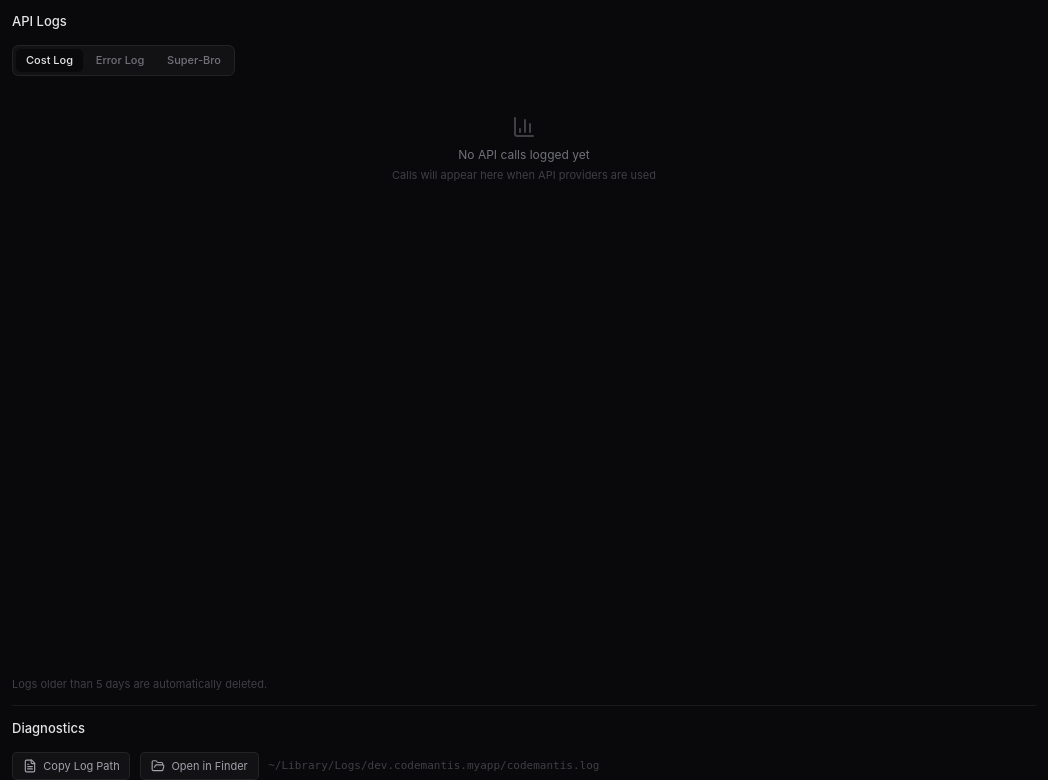
Test: ApiLogsTab › shows Super-Bro log entries when present
Click the button "Super-Bro" at x=194, y=60, box 157,49 -> 231,72
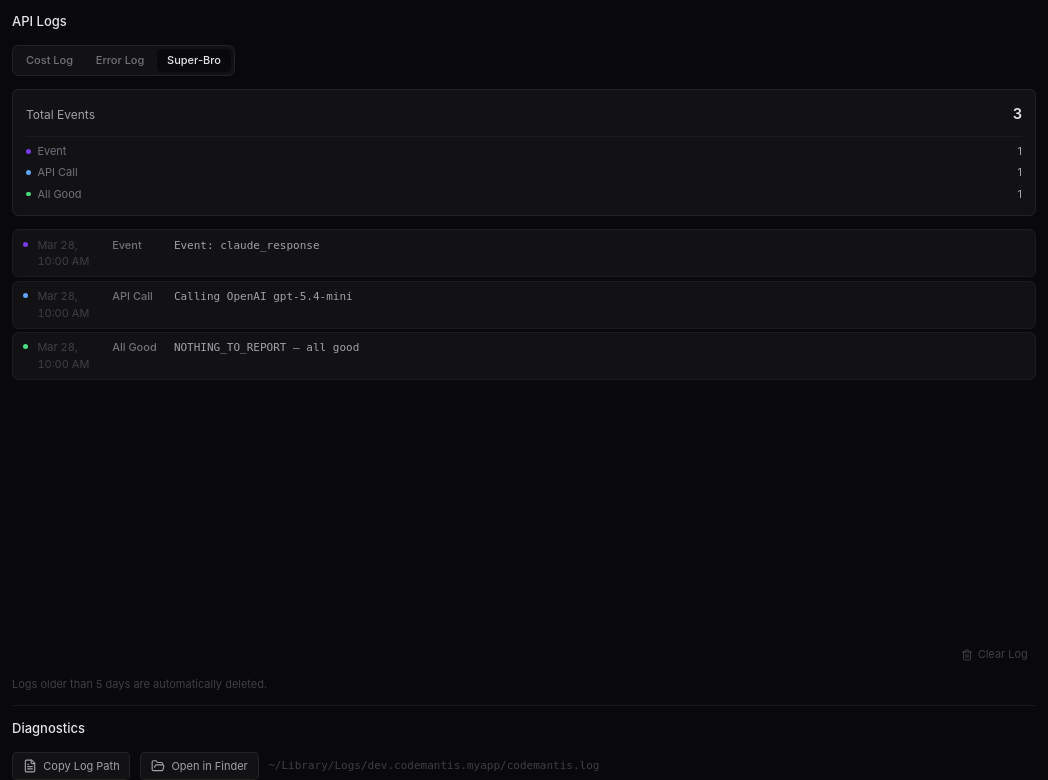
expect the text "Total Events" is shown: met, box 26,106 -> 95,124
expect the text "3" is shown: met, box 1013,103 -> 1022,126
expect the text "Event: claude_response" is shown: met, box 174,239 -> 320,252
